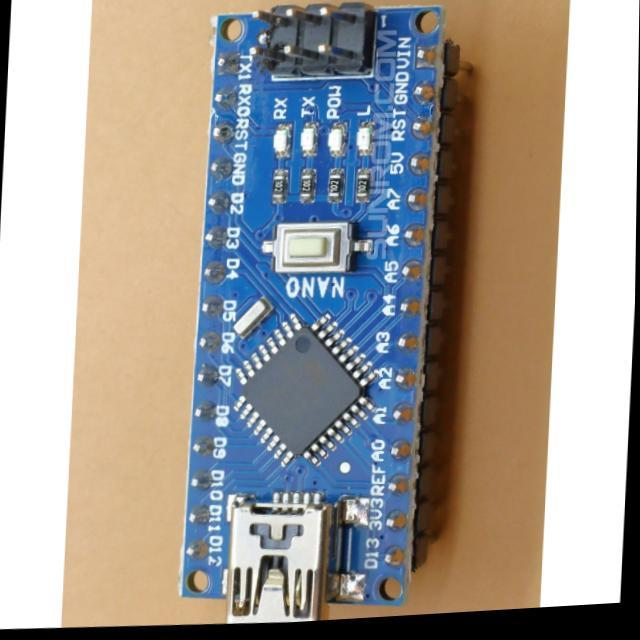Arduino-Nano: (179, 1, 456, 623)
